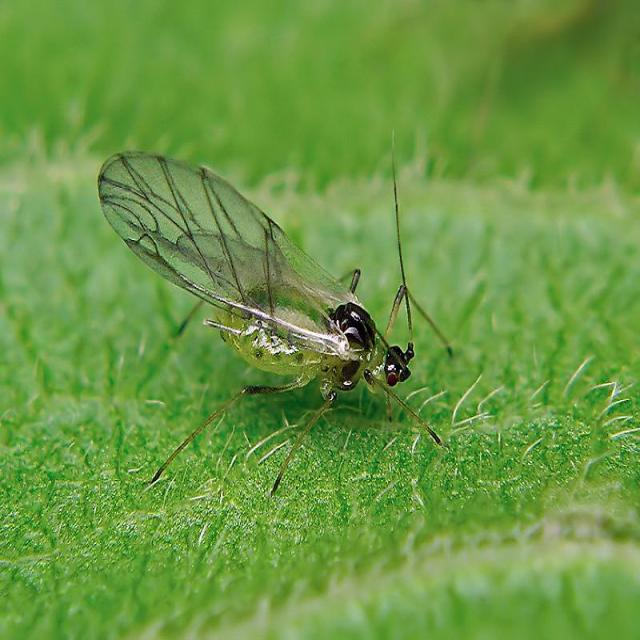Aphids: (86, 131, 465, 477)
